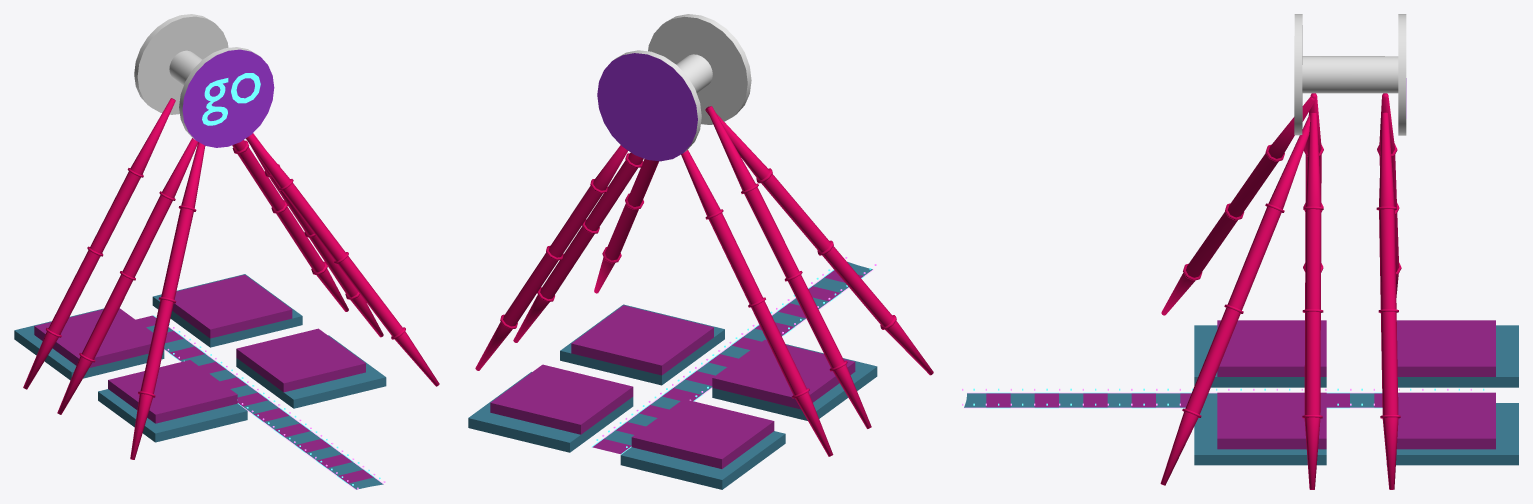
The model's file is ferrisWheel.glb.
3 views of the same model, side by side, from view 1: azimuth 30°, elevation 25°; view 2: azimuth 150°, elevation 25°; view 3: azimuth 270°, elevation 25° (orthographic). The views are drawn at different scales.
Visible parts, largest first — view 1: ferrisWheelLegs, ferrisWheelBase, pathToFerrisWheel, txtFerrisWheel; view 2: ferrisWheelLegs, ferrisWheelBase, pathToFerrisWheel; view 3: ferrisWheelBase, ferrisWheelLegs, pathToFerrisWheel.
Part boxes in pixels (x1,y1,x2,y2): ferrisWheelLegs: (23, 14, 439, 459); ferrisWheelBase: (14, 274, 386, 442); pathToFerrisWheel: (136, 315, 385, 489); txtFerrisWheel: (202, 73, 260, 125); ferrisWheelLegs: (475, 14, 933, 456); ferrisWheelBase: (468, 304, 877, 489); pathToFerrisWheel: (591, 256, 876, 454); ferrisWheelBase: (1194, 320, 1518, 465); ferrisWheelLegs: (1160, 14, 1406, 489); pathToFerrisWheel: (962, 388, 1484, 408).
Size of the model in its own units: 3.76 by 3.66 by 4.84.
